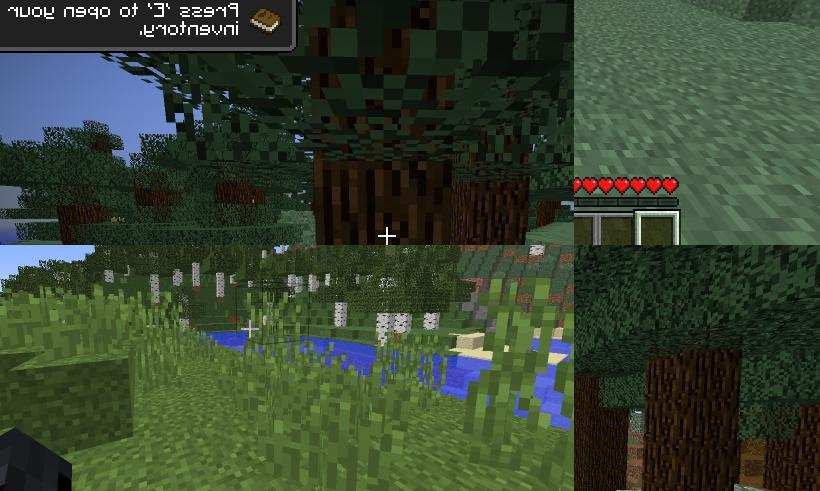minecraft-blocks: (648, 345, 744, 491), (319, 159, 454, 245), (575, 378, 631, 491), (452, 176, 533, 245), (767, 398, 820, 491), (64, 208, 107, 245), (378, 313, 396, 349), (395, 314, 413, 334), (335, 303, 349, 328), (425, 312, 441, 331), (152, 276, 160, 308), (531, 246, 551, 257), (218, 273, 226, 298), (194, 264, 201, 287), (175, 270, 184, 287), (297, 276, 304, 295), (311, 277, 318, 293), (106, 271, 114, 284), (326, 274, 333, 288), (290, 276, 297, 290)
